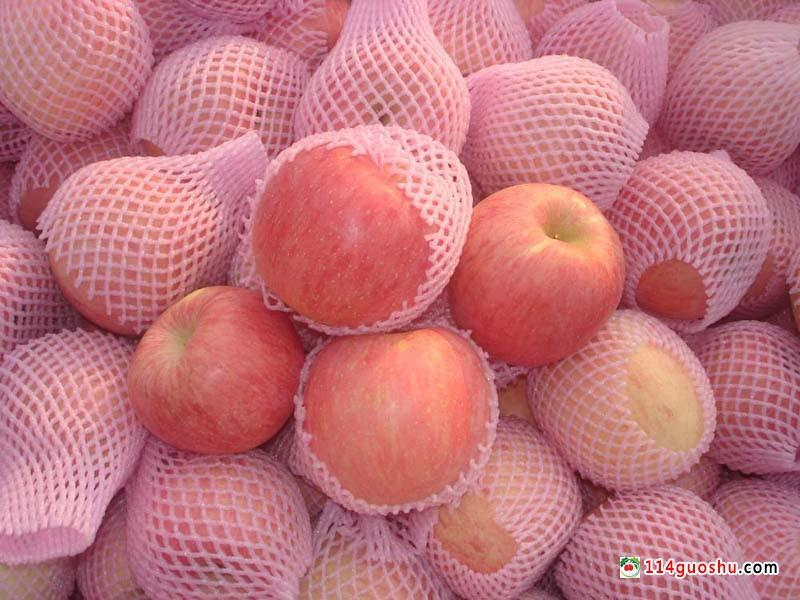apple: (249, 125, 466, 332), (293, 325, 498, 515), (444, 179, 625, 371), (122, 280, 303, 455)
